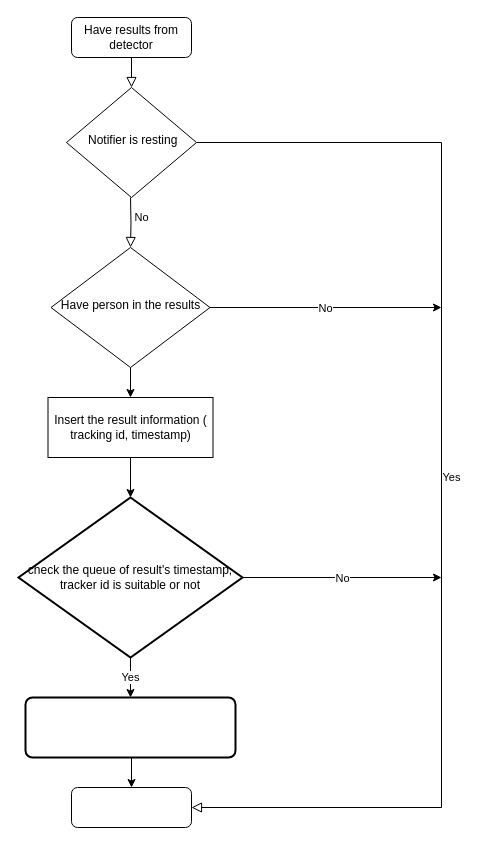
Some shapes in this 477 by 845 pixel diagram are drawn without their labels. Each missing label, with the centre of its shape:
"doAction including saving the image data with its timestamp" belongs at pixel 130 727.
"End" belongs at pixel 131 807.
